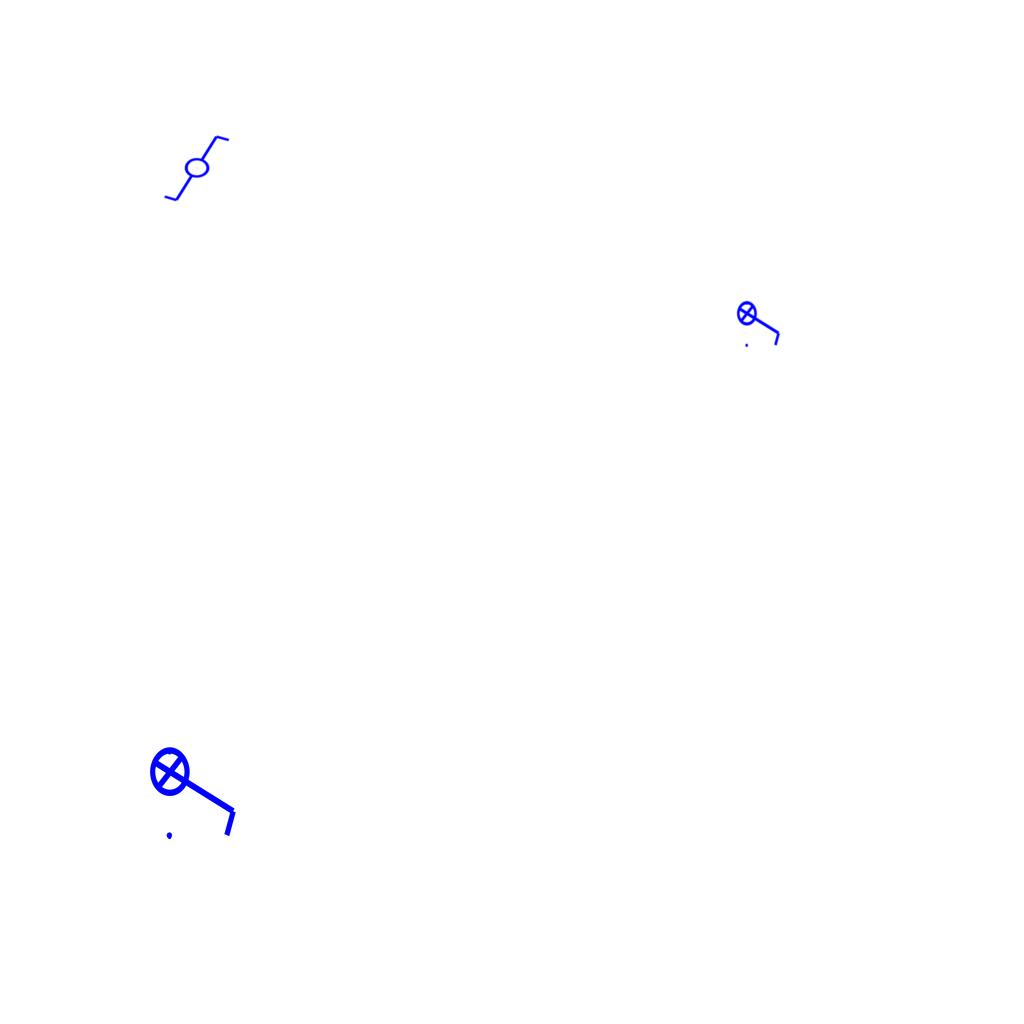Ausschalter_beleuchtet: (148, 733, 244, 845), (736, 294, 784, 350)
Wechselschalter: (162, 133, 240, 205)
